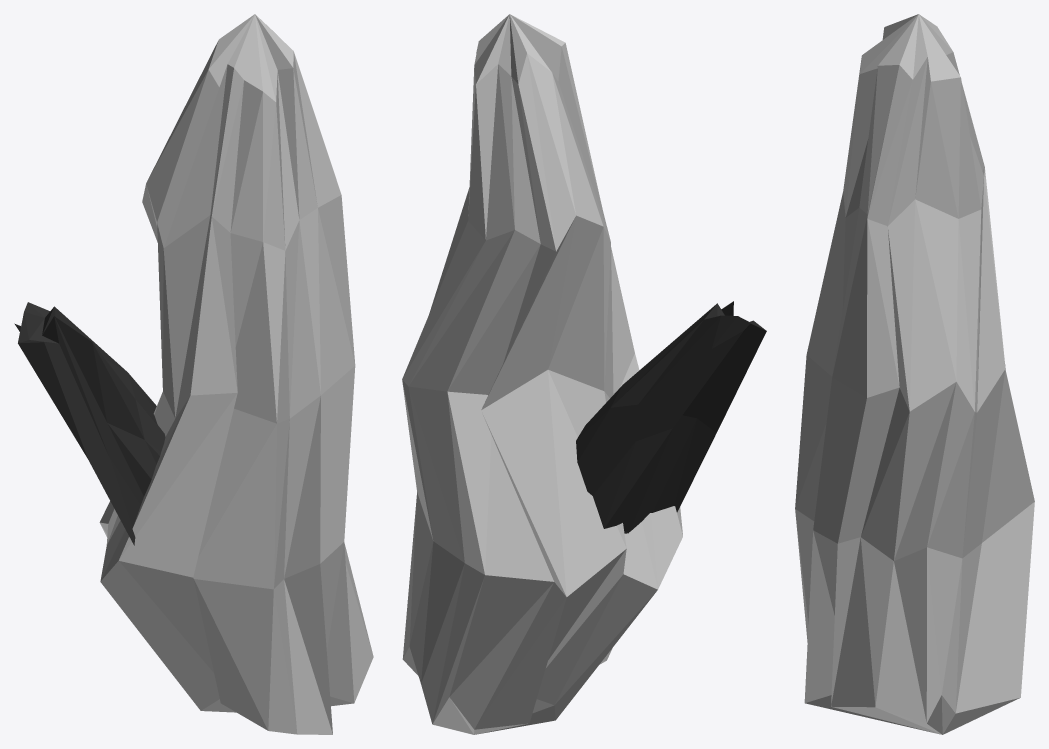
Rendered from Char_GL_Hand_R_Under.FBX.
3 renders of one model, left to right at view 1: azimuth 30°, elevation 25°; view 2: azimuth 150°, elevation 25°; view 3: azimuth 270°, elevation 25°, orthographic.
Visible parts, largest first — view 1: Cylinder003; view 2: Cylinder003; view 3: Cylinder003.
Part boxes in pixels (left/top/right/bottom): Cylinder003: left=14, top=14, right=373, bottom=734; Cylinder003: left=402, top=14, right=766, bottom=734; Cylinder003: left=795, top=14, right=1034, bottom=734.
Size of the model in its own units: 22.7 by 44.4 by 13.6.
